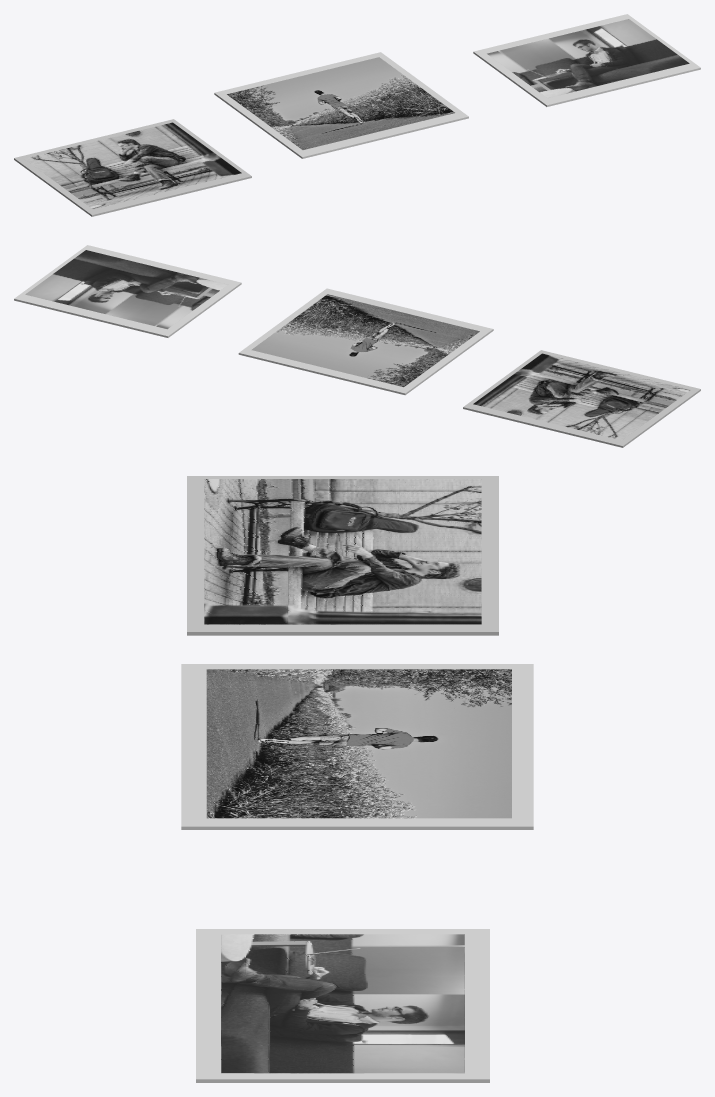
Rendered from photos.fbx.
3 renders of one model, top to bottom at view 1: azimuth 30°, elevation 25°; view 2: azimuth 150°, elevation 25°; view 3: azimuth 270°, elevation 25°, orthographic. The views are drawn at different scales.
Visible parts, largest first — view 1: pPlane2, pPlane1, pPlane3, pCube10, pCube11, pCube9; view 2: pPlane2, pPlane1, pPlane3, pCube10, pCube11, pCube9; view 3: pPlane2, pPlane1, pPlane3, pCube10, pCube11, pCube9.
Boxes of the visible parts, x1,y1,x2,y2 form: pPlane2: [227, 57, 454, 149]; pPlane1: [24, 122, 241, 209]; pPlane3: [487, 19, 689, 98]; pCube10: [214, 52, 468, 158]; pCube11: [473, 14, 700, 106]; pCube9: [14, 119, 251, 216]; pPlane2: [252, 294, 479, 387]; pPlane1: [473, 353, 690, 440]; pPlane3: [25, 250, 227, 329]; pCube10: [238, 288, 493, 395]; pCube11: [14, 245, 241, 337]; pCube9: [463, 350, 700, 447]; pPlane2: [206, 669, 511, 818]; pPlane1: [204, 479, 481, 624]; pPlane3: [221, 934, 464, 1073]; pCube10: [181, 664, 533, 829]; pCube11: [196, 929, 489, 1082]; pCube9: [187, 476, 498, 635].
Bounding box in the file's own units: 35.75 × 0.7739 × 8.93.
6 materials, 3 textured.
